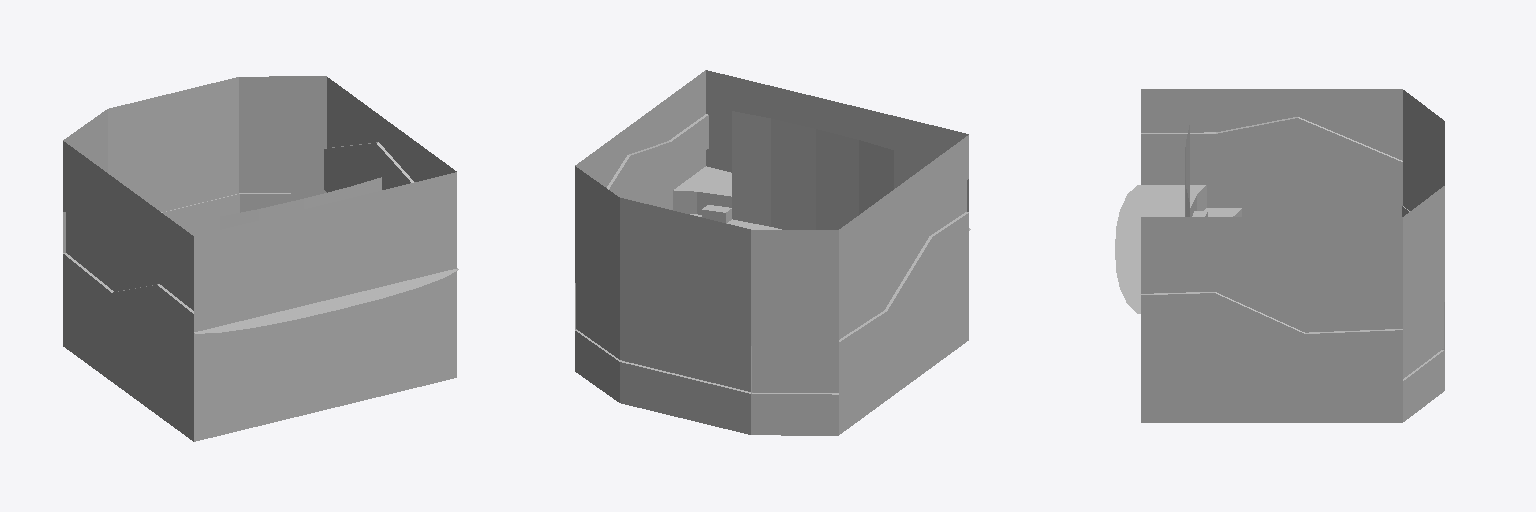
The model's file is room2.obj.
3 renders of one model, left to right at view 1: azimuth 30°, elevation 25°; view 2: azimuth 150°, elevation 25°; view 3: azimuth 270°, elevation 25°, orthographic.
Visible parts, largest first — view 1: Cube; view 2: Cube; view 3: Cube.
Part boxes in pixels (bbox=[...]): Cube: bbox=[63, 76, 458, 441]; Cube: bbox=[575, 70, 970, 435]; Cube: bbox=[1115, 89, 1444, 422].
Size of the model in its own units: 35.27 by 26.3 by 38.23.